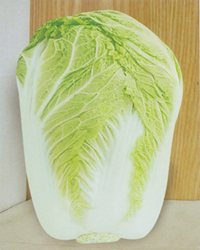cabbage: (15, 9, 183, 245)
